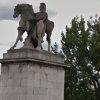Statue: (4, 4, 74, 68)
